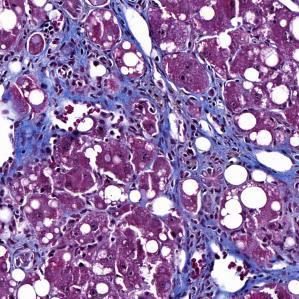fibrosis: (143, 76, 253, 176), (22, 25, 127, 114), (171, 201, 252, 294)
